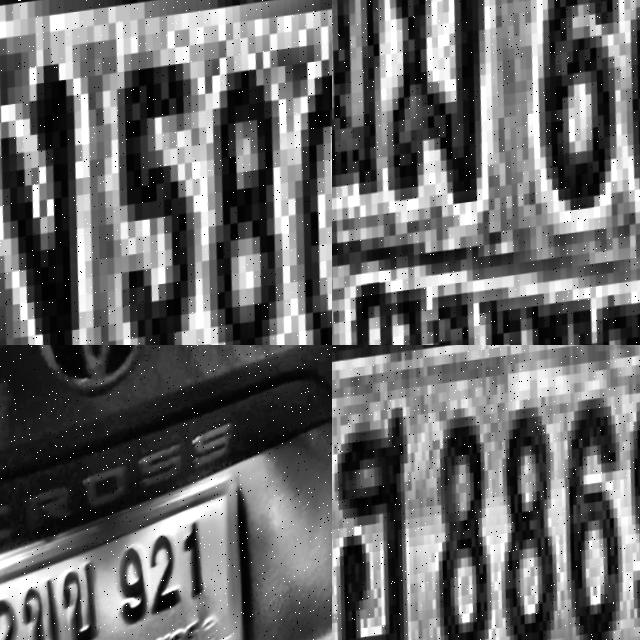license-plate: (0, 0, 332, 345), (332, 0, 640, 345), (332, 345, 640, 640), (0, 470, 282, 640)
